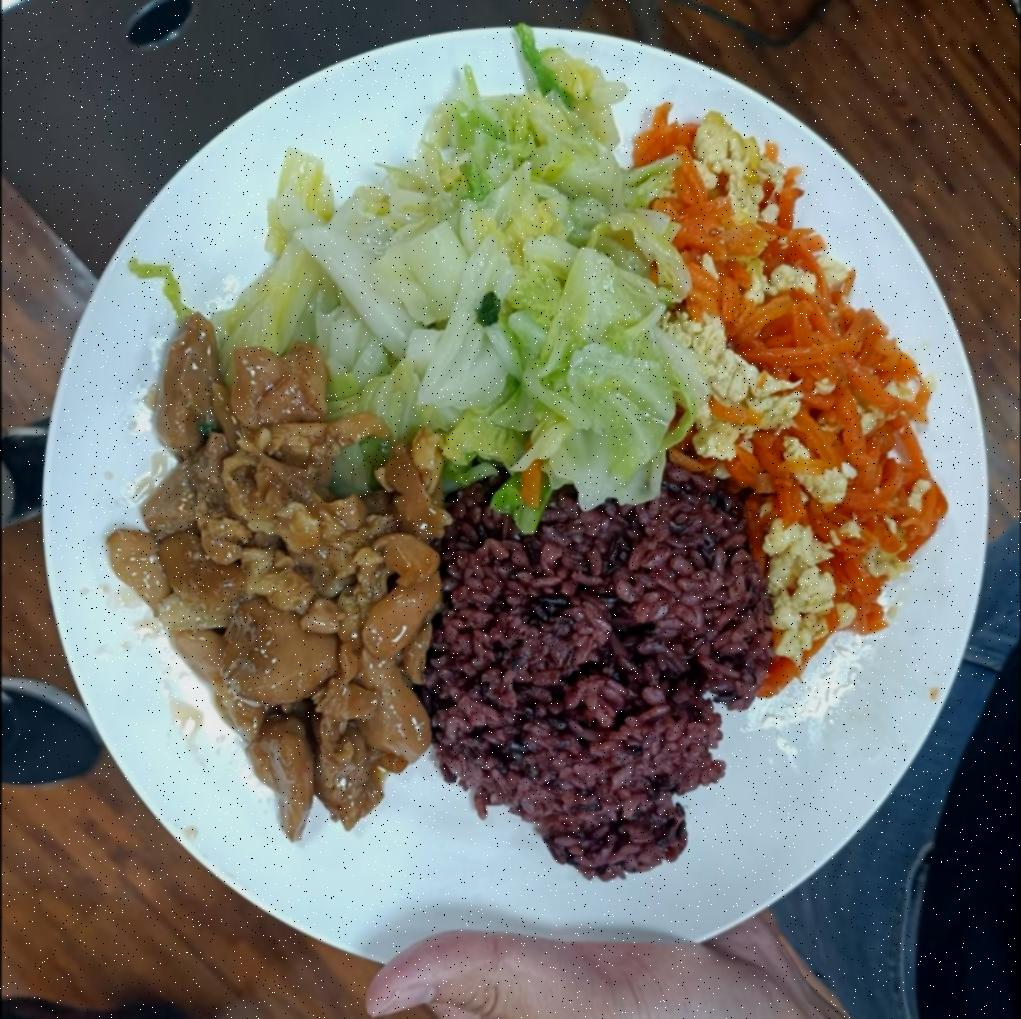plate: (31, 8, 992, 982)
purple rice: (435, 478, 747, 852)
side dish: (299, 82, 688, 482), (668, 123, 930, 655)
three cup chicken: (142, 342, 451, 824)
